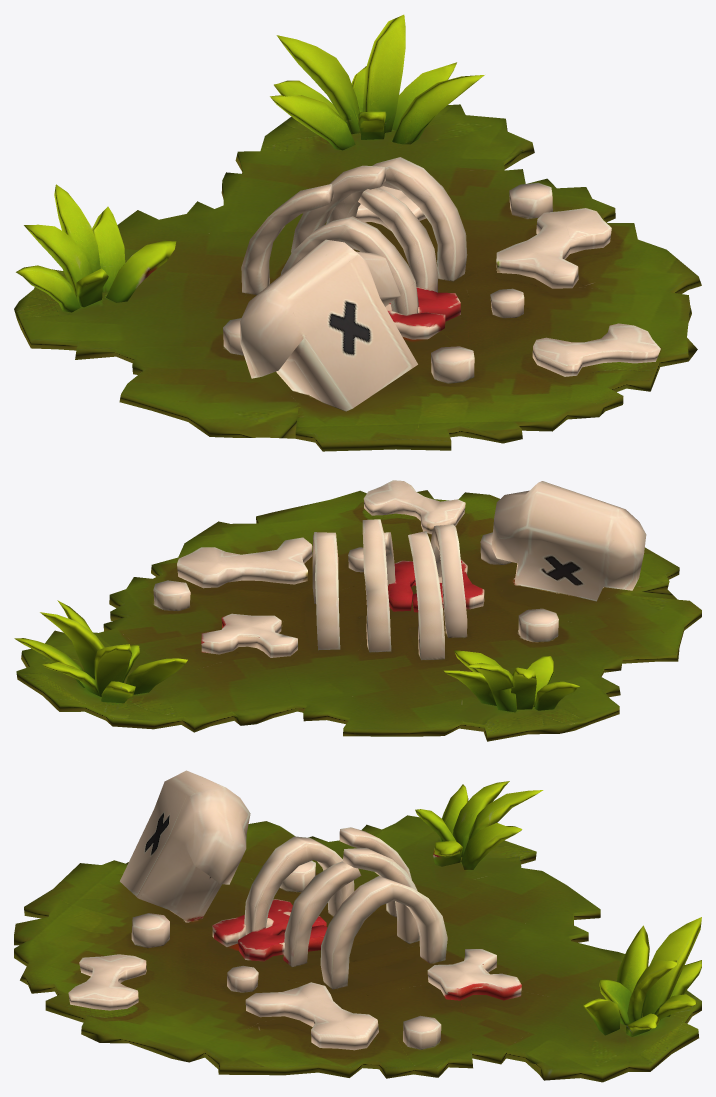
The model's file is etapa25.glb.
3 views of the same model, one above another, from view 1: azimuth 30°, elevation 25°; view 2: azimuth 150°, elevation 25°; view 3: azimuth 270°, elevation 25° (orthographic). The views are drawn at different scales.
Bounding box in the file's own units: 0.8908 × 0.2375 × 1.
1 material, 1 textured.
